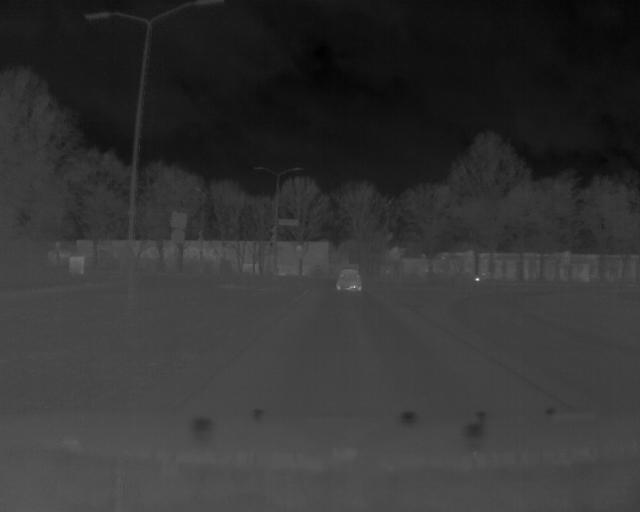car: (335, 266, 365, 293)
